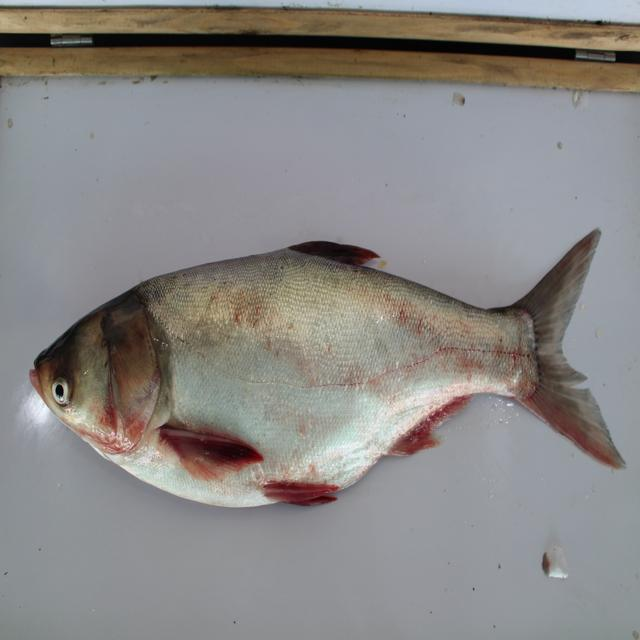SilverCarp: (16, 228, 638, 553)
